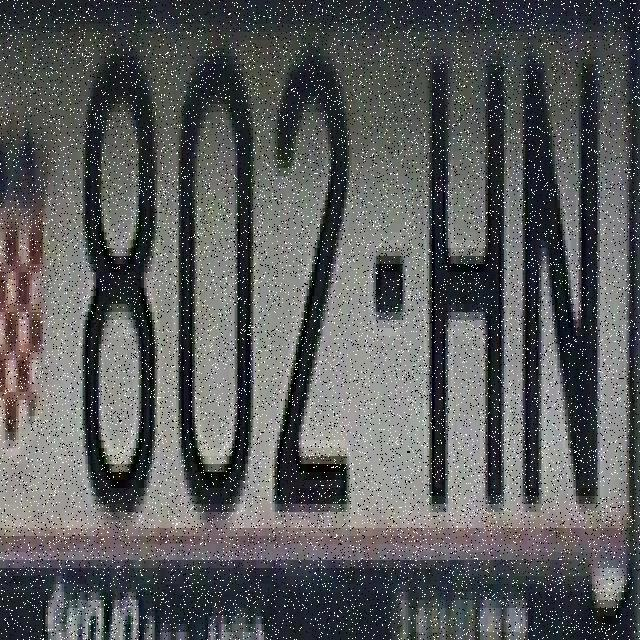licenseplate: (0, 24, 629, 552)
